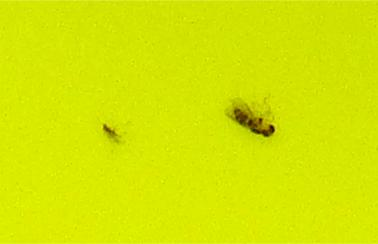Brachycera: (224, 100, 278, 140), (100, 121, 121, 144)
